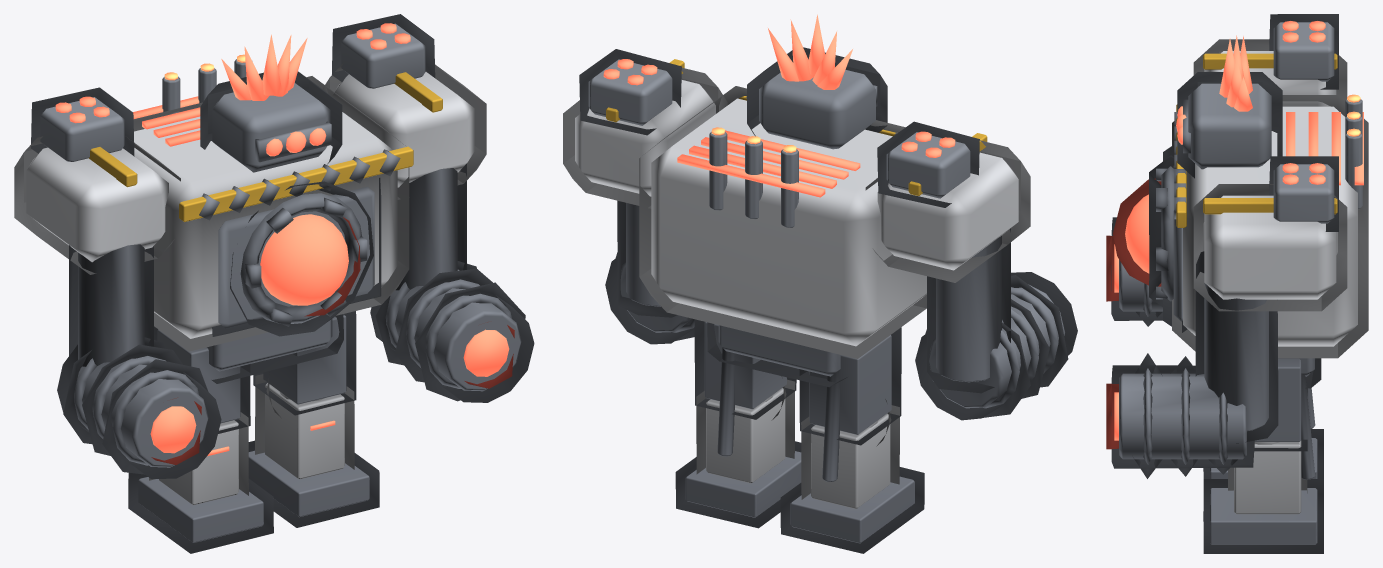
Rendered from prime_walker.glb.
3 renders of one model, left to right at view 1: azimuth 30°, elevation 25°; view 2: azimuth 150°, elevation 25°; view 3: azimuth 270°, elevation 25°, orthographic. The views are drawn at different scales.
Parts seen in each view (by area): view 1: Body_Mesh, Body_Mesh_Outline, ThighL_Mesh, ThighR_Mesh, ThighL_Mesh_Outline, ThighR_Mesh_Outline; view 2: Body_Mesh, Body_Mesh_Outline, ThighR_Mesh, ThighL_Mesh, ThighR_Mesh_Outline, ThighL_Mesh_Outline; view 3: Body_Mesh, Body_Mesh_Outline, ThighL_Mesh, ThighL_Mesh_Outline, ThighR_Mesh, ThighR_Mesh_Outline.
Part boxes in pixels (box(x1,y1,x2,y2)): Body_Mesh: box(26, 23, 521, 467); Body_Mesh_Outline: box(14, 14, 534, 478); ThighL_Mesh: box(248, 314, 369, 517); ThighR_Mesh: box(138, 329, 263, 542); ThighL_Mesh_Outline: box(248, 311, 379, 527); ThighR_Mesh_Outline: box(128, 326, 273, 553); Body_Mesh: box(575, 14, 1064, 408); Body_Mesh_Outline: box(563, 47, 1077, 420); ThighR_Mesh: box(790, 335, 914, 543); ThighL_Mesh: box(685, 322, 801, 517); ThighR_Mesh_Outline: box(780, 327, 924, 553); ThighL_Mesh_Outline: box(675, 319, 801, 528); Body_Mesh: box(1114, 21, 1363, 464); Body_Mesh_Outline: box(1106, 14, 1368, 478); ThighL_Mesh: box(1210, 358, 1317, 544); ThighL_Mesh_Outline: box(1203, 388, 1323, 553); ThighR_Mesh: box(1210, 388, 1317, 478); ThighR_Mesh_Outline: box(1203, 429, 1323, 478).
Bounding box in the file's own units: 3.52 × 3.87 × 1.95.
